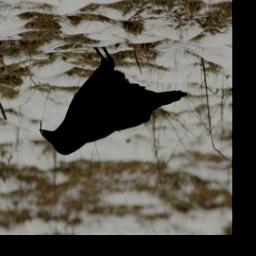Crow: (34, 44, 186, 162)
